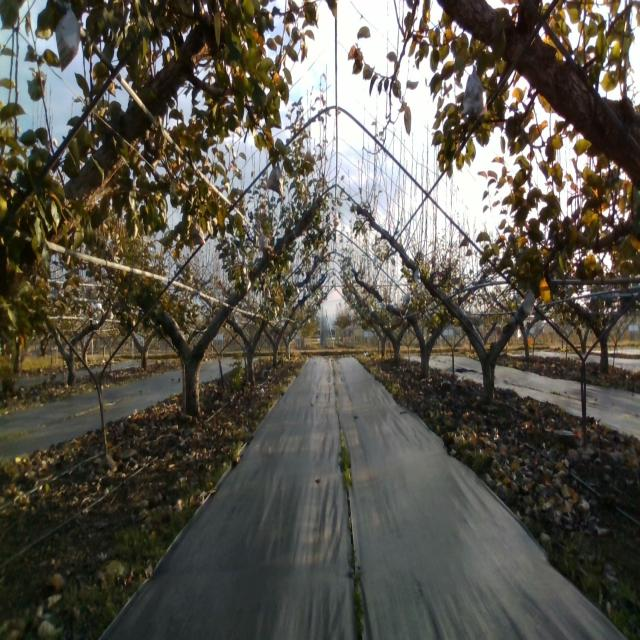pearbags: (55, 3, 81, 72), (461, 64, 488, 116), (266, 161, 284, 200), (522, 288, 535, 316), (191, 222, 206, 245)
